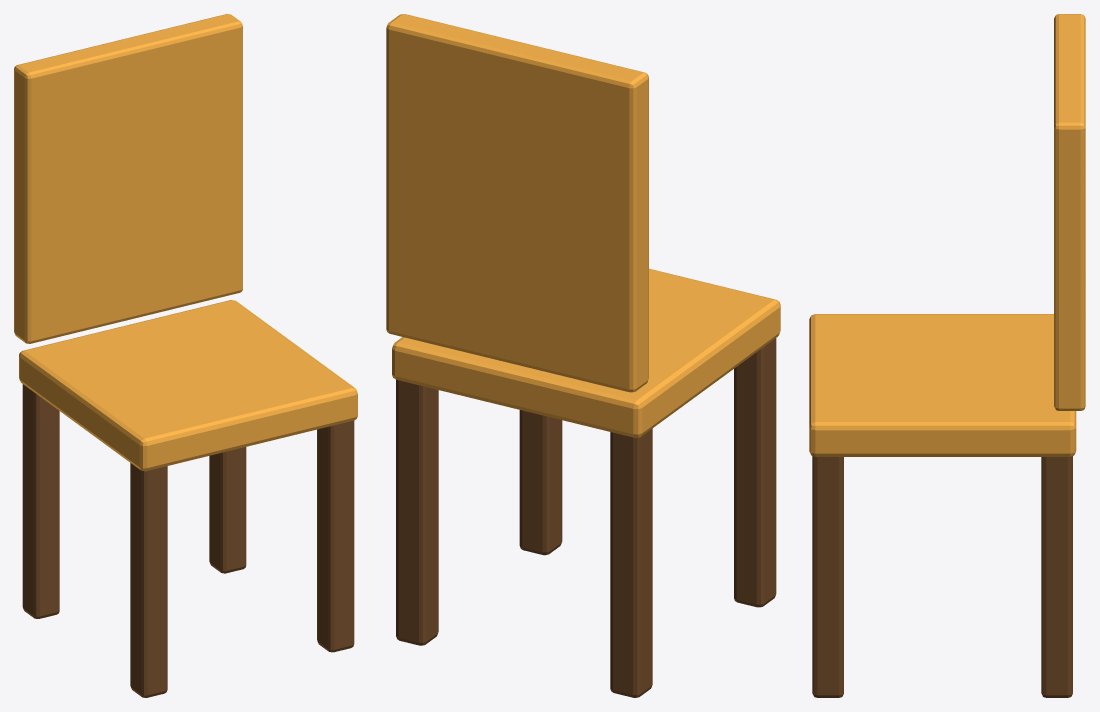
The model's file is Kitchen_Chair.fbx.
3 views of the same model, side by side, from view 1: azimuth 30°, elevation 25°; view 2: azimuth 150°, elevation 25°; view 3: azimuth 270°, elevation 25° (orthographic). The views are drawn at different scales.
Parts seen in each view (by area): view 1: Chair; view 2: Chair; view 3: Chair.
Boxes of the visible parts, box(x1,y1,x2,y2) form: Chair: box(14, 14, 357, 697); Chair: box(386, 14, 780, 697); Chair: box(809, 14, 1085, 697).
Bounding box in the file's own units: 0.42 × 1 × 0.435.
